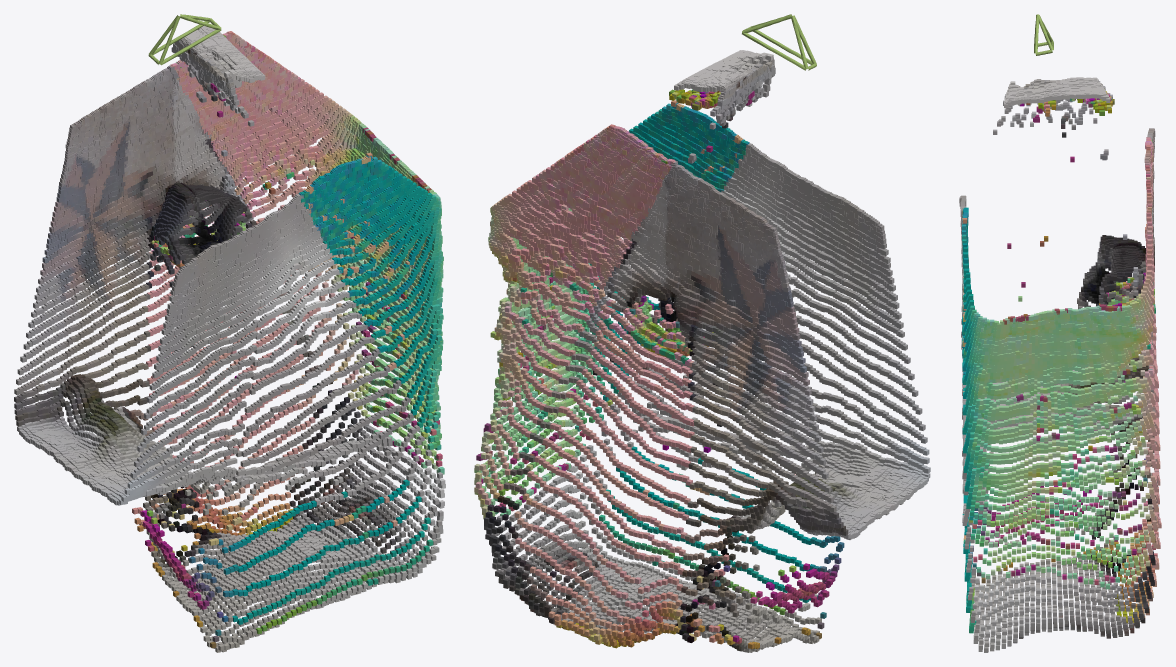
File: pred_4-compressed.glb
3 renders of one model, left to right at view 1: azimuth 30°, elevation 25°; view 2: azimuth 150°, elevation 25°; view 3: azimuth 270°, elevation 25°, orthographic. The views are drawn at different scales.
Size of the model in its own units: 4.45 by 7.46 by 2.39.
